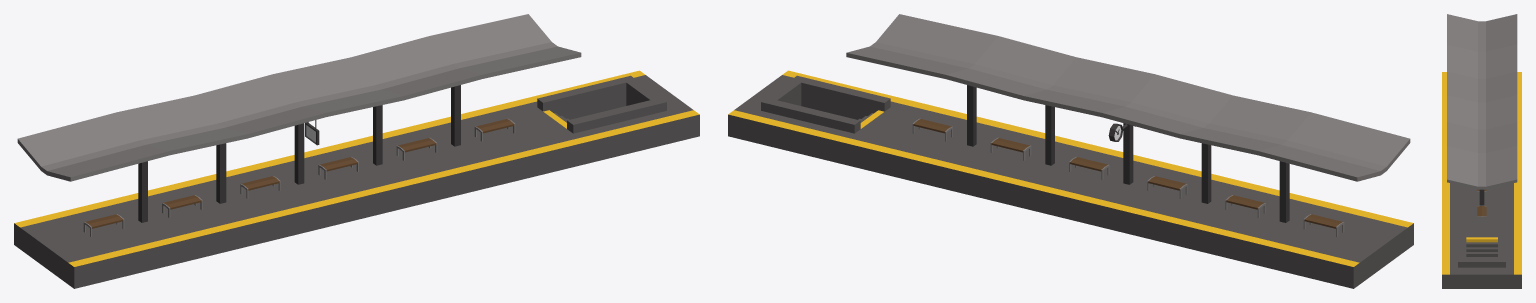
File: buildings-train-station-platform-stairs.glb
3 views of the same model, side by side, from view 1: azimuth 30°, elevation 25°; view 2: azimuth 150°, elevation 25°; view 3: azimuth 270°, elevation 25° (orthographic). The views are drawn at different scales.
Parts seen in each view (by area): view 1: train-station-platform-stairs; view 2: train-station-platform-stairs; view 3: train-station-platform-stairs.
Part boxes in pixels (x1,y1,x2,y2): train-station-platform-stairs: (14,14,699,288); train-station-platform-stairs: (728,14,1413,288); train-station-platform-stairs: (1442,14,1521,288).
Size of the model in its own units: 30.04 by 5.1 by 5.
